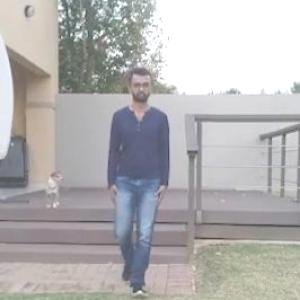follow: (100, 59, 170, 299)
